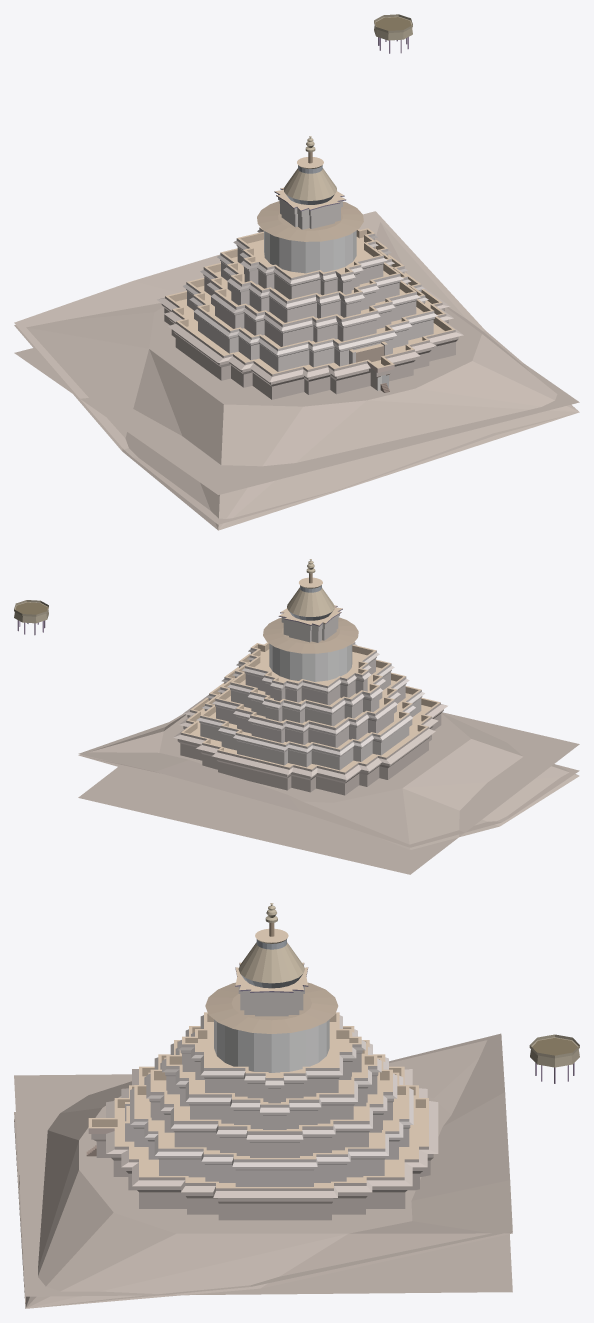
The model's file is Kumbum.gltf.
3 views of the same model, one above another, from view 1: azimuth 30°, elevation 25°; view 2: azimuth 150°, elevation 25°; view 3: azimuth 270°, elevation 25° (orthographic). The views are drawn at different scales.
Visible parts, largest first — view 1: Node1709, Node17, Node1723, Node1726, Node1724, Node1718, Node1717, Node1708, Node1711, Node1727, Node2, Node1712 (+12 smaller); view 2: Node17, Node1723, Node1718, Node1717, Node1726, Node4, Node1727, Node1715, Node901, Node1722, Node2, Node1594 (+14 smaller); view 3: Node17, Node1723, Node1713, Node4, Node1714, Node1725, Node1712, Node1711, Node1709, Node1727, Node7, Node1657 (+46 smaller).
Part boxes in pixels (box(x1,y1,x2,y2)): Node1709: box(219, 400, 578, 530); Node17: box(14, 348, 579, 494); Node1723: box(149, 307, 481, 406); Node1726: box(14, 325, 148, 450); Node1724: box(218, 404, 302, 529); Node1718: box(149, 349, 223, 529); Node1717: box(122, 349, 217, 529); Node1708: box(218, 400, 366, 530); Node1711: box(416, 361, 579, 412); Node1727: box(15, 312, 154, 348); Node2: box(19, 281, 176, 328); Node1712: box(472, 334, 578, 411); Node17: box(78, 712, 579, 874); Node1723: box(159, 713, 470, 802); Node1718: box(403, 739, 579, 788); Node1717: box(403, 776, 579, 826); Node1726: box(402, 788, 499, 849); Node4: box(155, 760, 300, 812); Node1727: box(334, 788, 410, 849); Node1715: box(81, 756, 408, 849); Node901: box(218, 761, 287, 790); Node1722: box(79, 731, 163, 755); Node2: box(288, 795, 413, 846); Node1594: box(181, 697, 440, 772); Node17: box(14, 1074, 512, 1296); Node1723: box(79, 1096, 451, 1233); Node1713: box(26, 1233, 347, 1308); Node4: box(411, 1092, 509, 1200); Node1714: box(27, 1234, 347, 1308); Node1725: box(261, 1233, 512, 1288); Node1712: box(26, 1212, 175, 1308); Node1711: box(25, 1170, 113, 1308); Node1709: box(14, 1119, 78, 1307); Node1727: box(389, 1040, 487, 1098); Node7: box(411, 1180, 509, 1247); Node1657: box(117, 1076, 425, 1186).
Size of the model in its own units: 3757 by 2318 by 3553.
